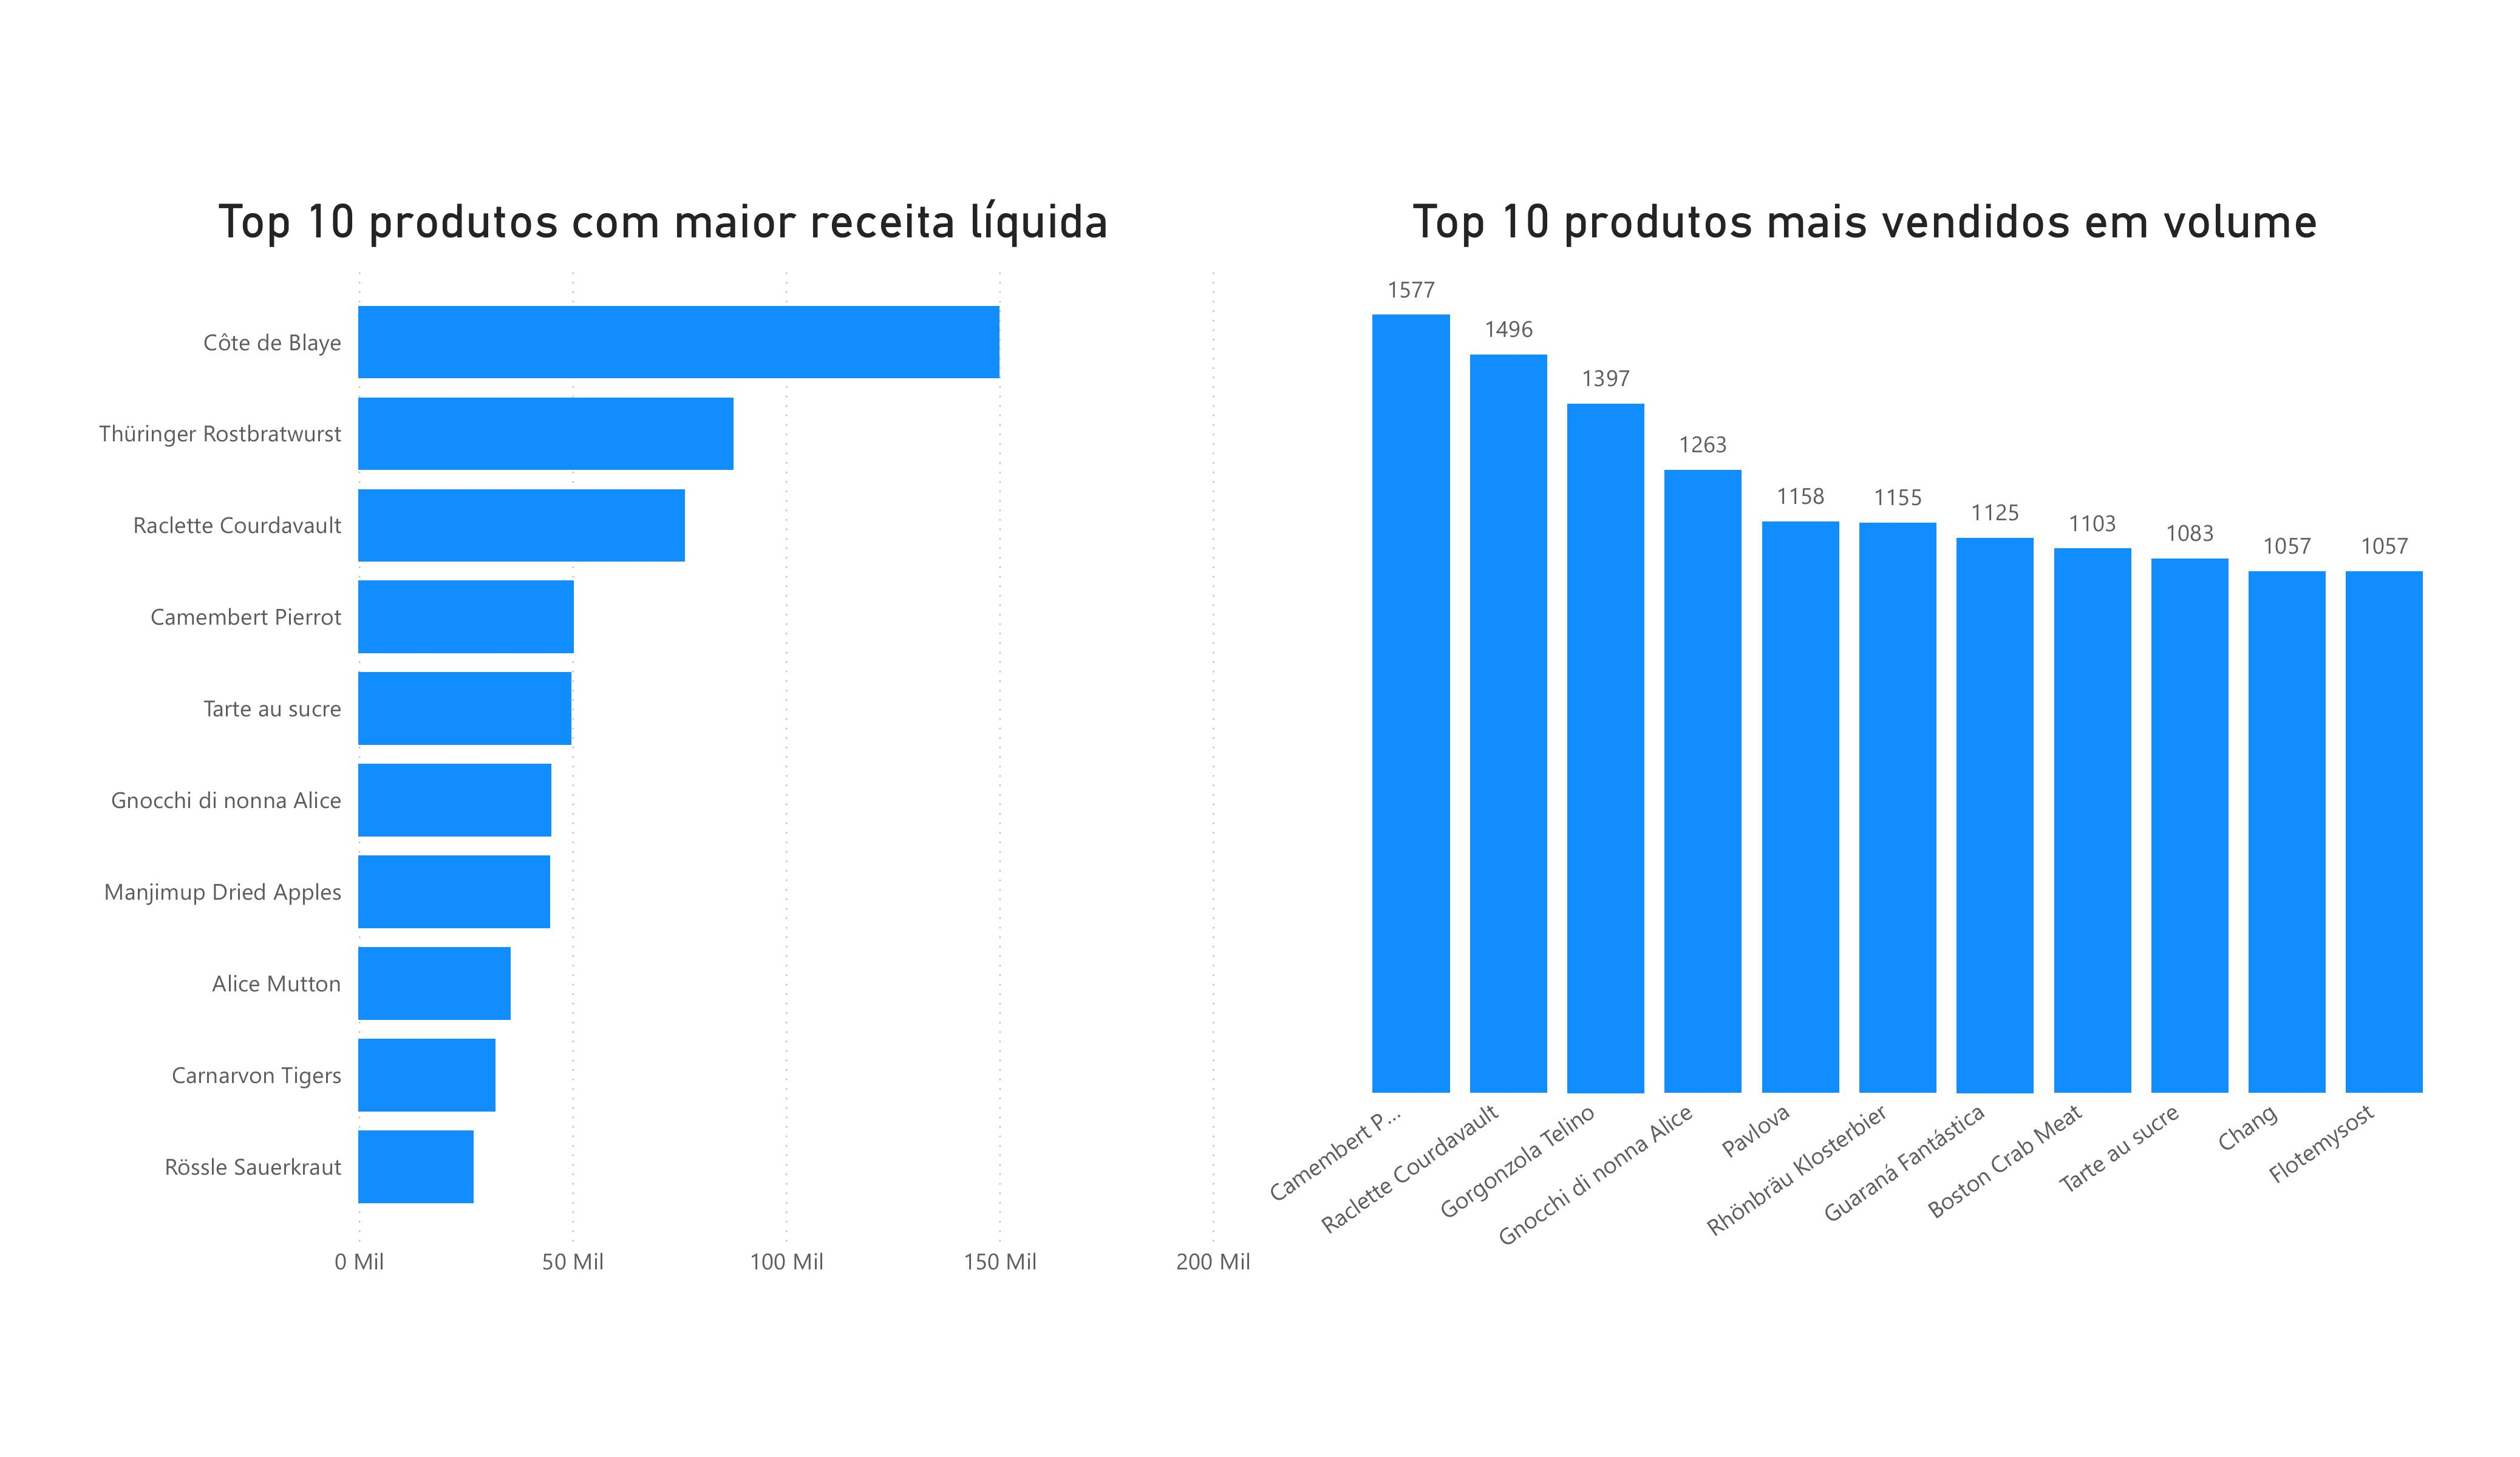

This screenshot's page, from the dashboard's own definition file:
{"tool":"powerbi","page":{"name":"Página 6","canvas":[1280,720],"ordinal":5},"visuals":[{"type":"clusteredBarChart","title":"Top 10 produtos com maior receita líquida","fields":{"Category":["dim_product.ProductName"],"Y":["Sum(fact_vendas.Receita)"]},"box":[10.7,77.1,628.8,581.4],"z":0},{"type":"columnChart","title":"Top 10 produtos mais vendidos em volume","fields":{"Category":["dim_product.ProductName"],"Y":["Sum(fact_vendas.Quantity)"]},"box":[639.5,76.8,639.5,581.8],"z":1000}]}

Visuals, with their boxes on the page's 1280x720 design canvas (x1, y1, x2, y2). These are canvas units, not pixel positions in the 2520x1457 screenshot, which may show the page scaled, cropped or inside an application window:
"Top 10 produtos com maior receita líquida" clusteredBarChart: l=11, t=77, r=640, b=658
"Top 10 produtos mais vendidos em volume" columnChart: l=640, t=77, r=1279, b=659
